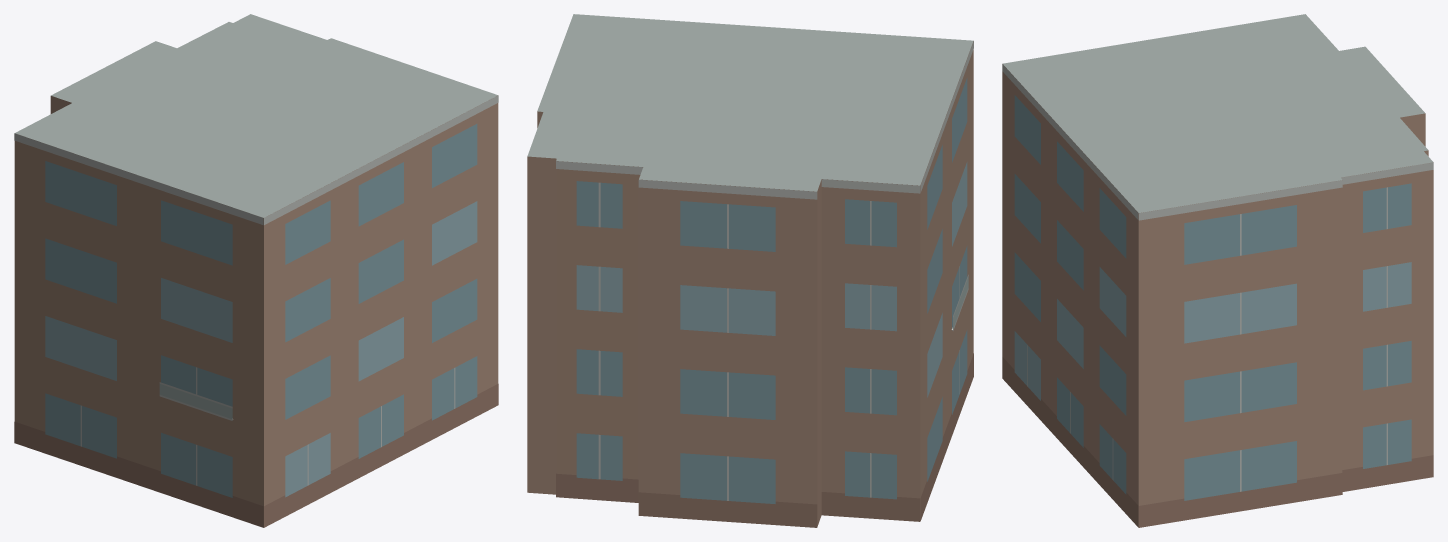
Rendered from survey-upis-33037370.glb.
3 renders of one model, left to right at view 1: azimuth 30°, elevation 25°; view 2: azimuth 150°, elevation 25°; view 3: azimuth 270°, elevation 25°, orthographic. The views are drawn at different scales.
Visible parts, largest first — view 1: survey-upis-33037370.tmp; view 2: survey-upis-33037370.tmp; view 3: survey-upis-33037370.tmp.
Part boxes in pixels (x1,y1,x2,y2): survey-upis-33037370.tmp: (14,14,498,527); survey-upis-33037370.tmp: (527,14,973,527); survey-upis-33037370.tmp: (1002,14,1433,527).
Bounding box in the file's own units: 13.92 × 10.25 × 12.74.
